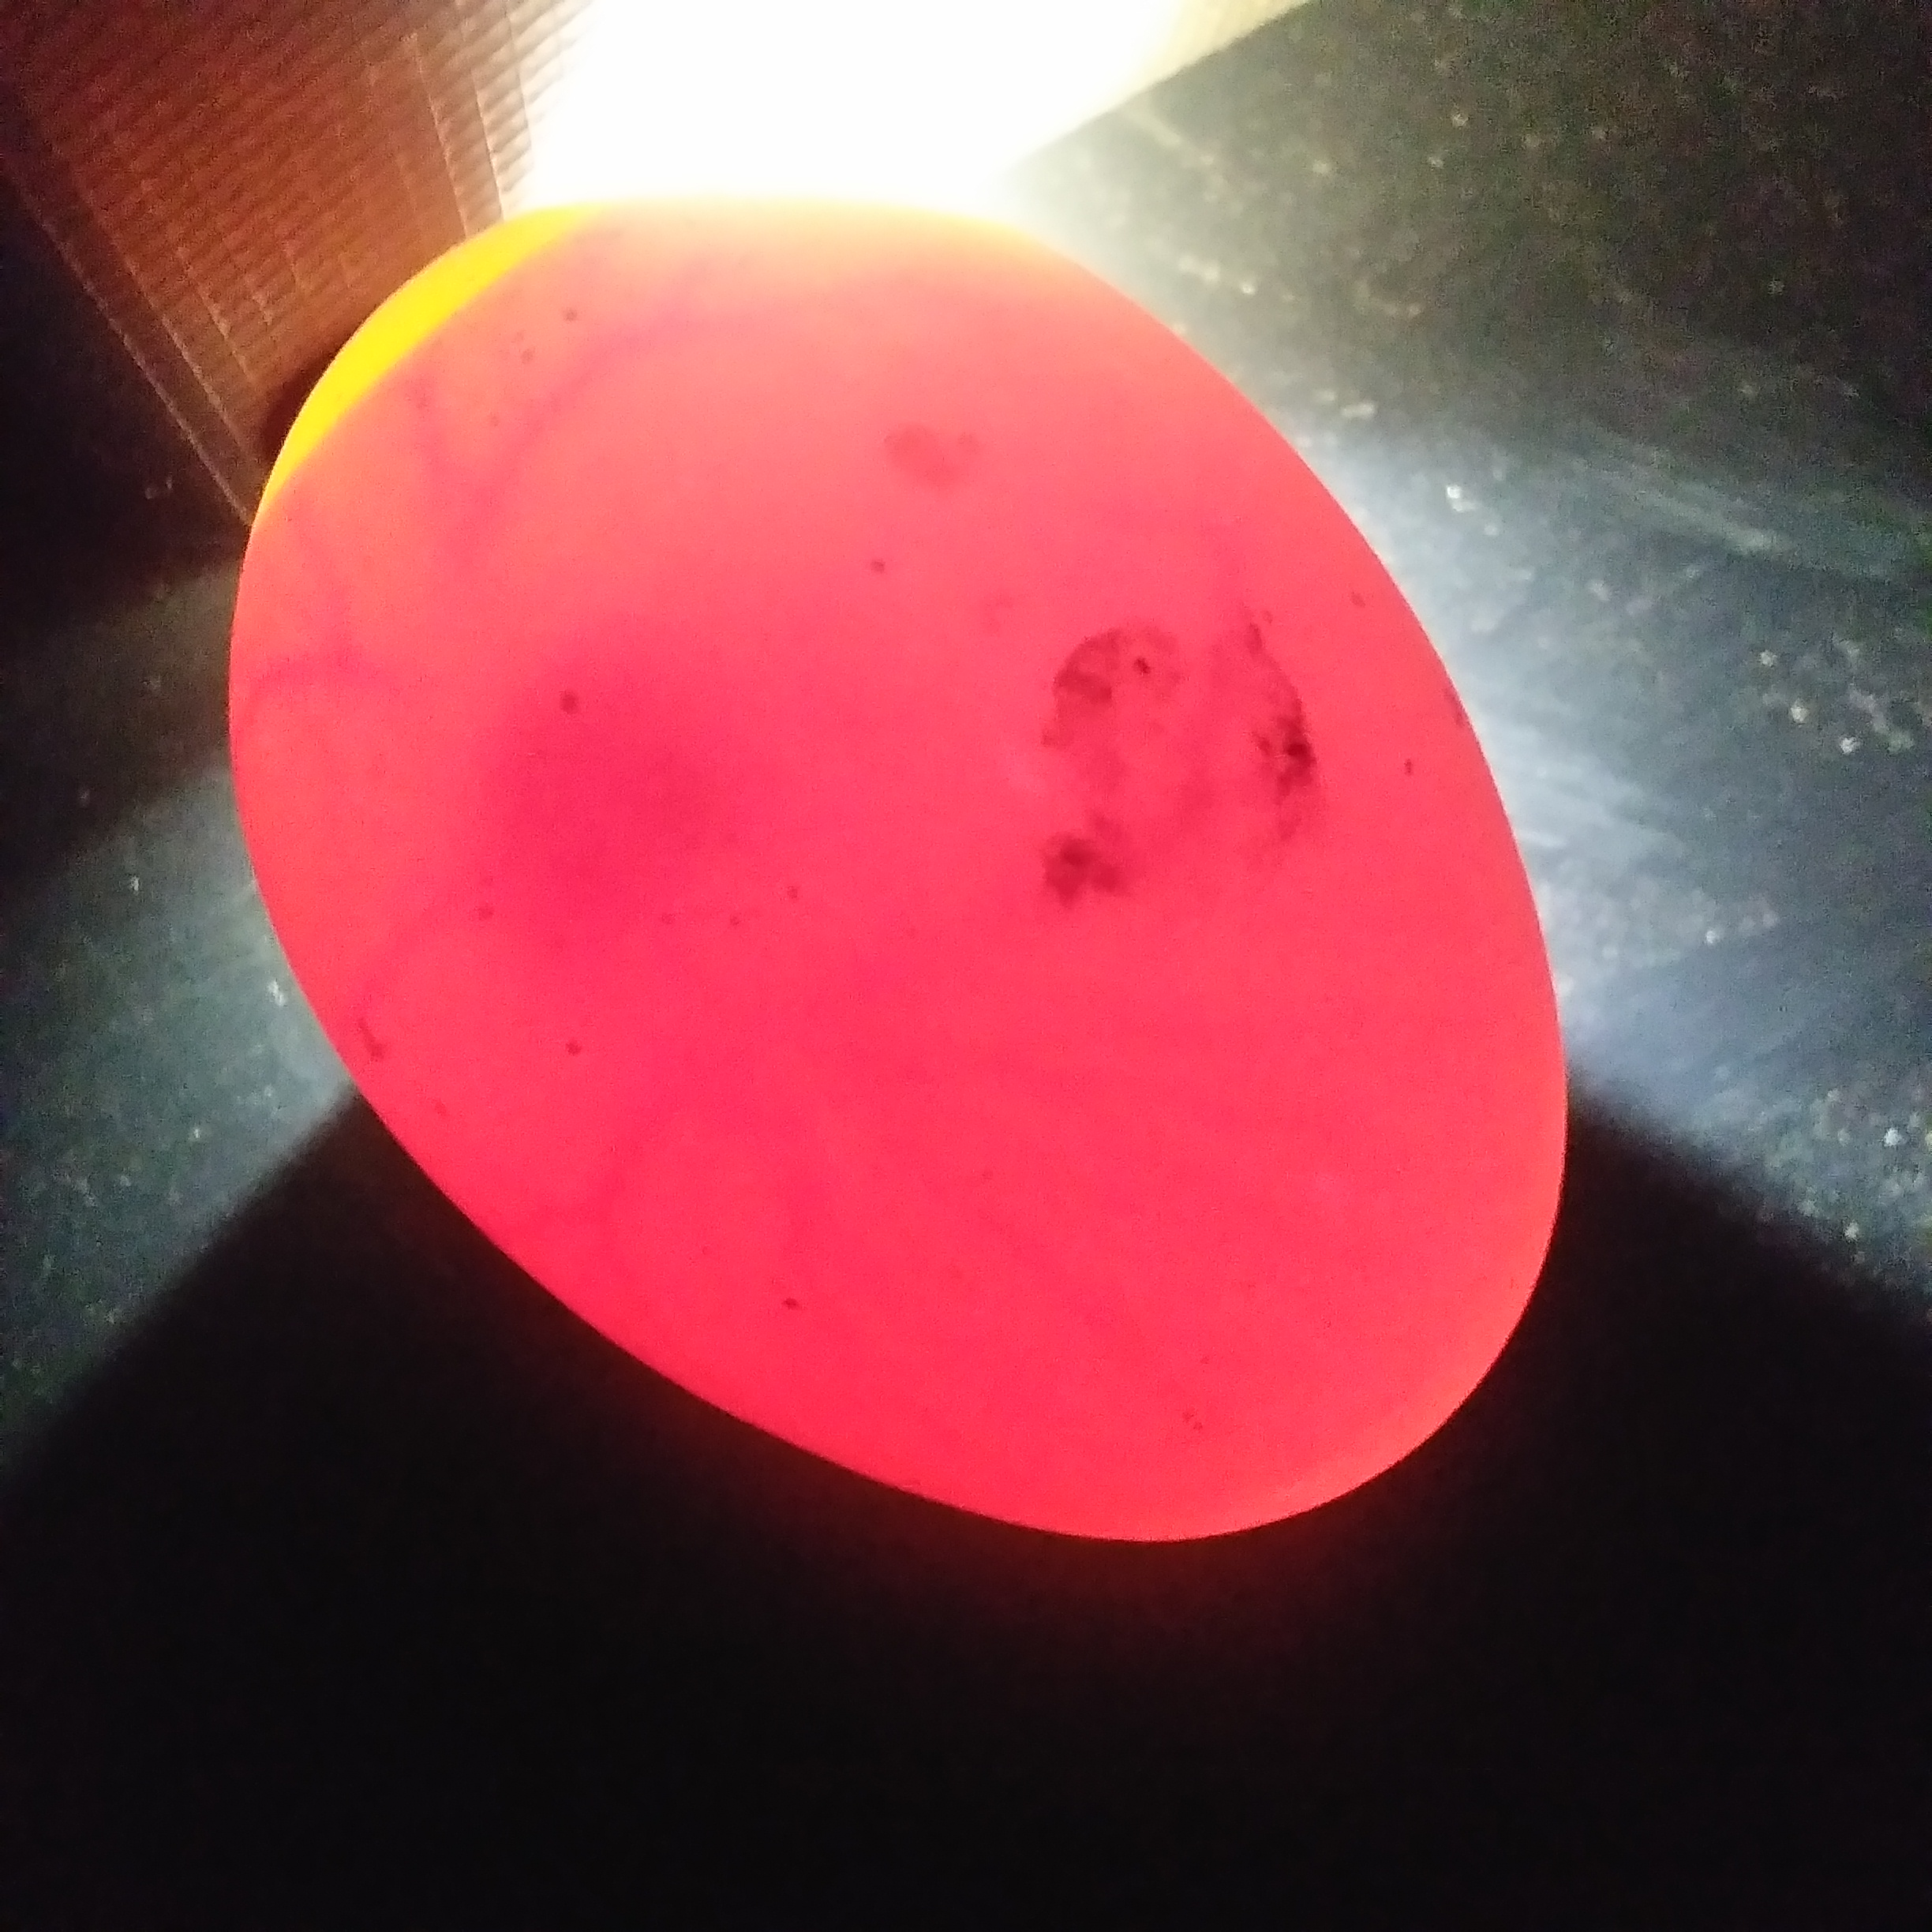bloodcell: (630, 971, 1382, 1332), (409, 338, 970, 571)
embryo: (483, 676, 722, 925)
